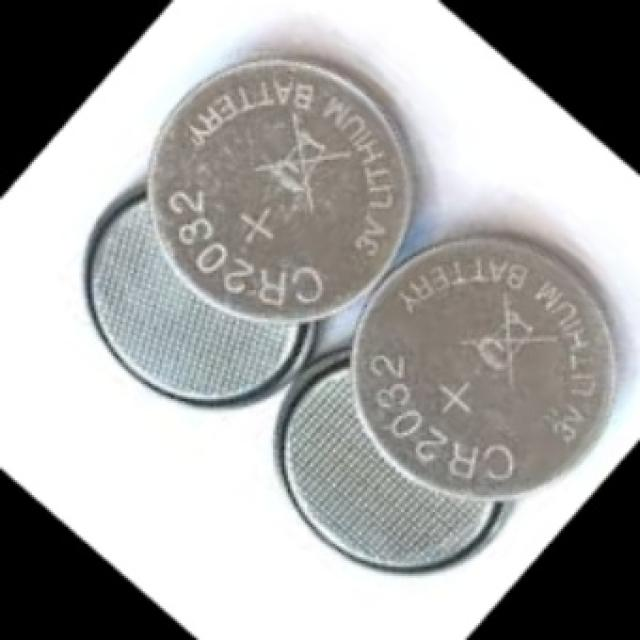elektronik: (353, 236, 617, 503), (149, 58, 412, 320), (86, 182, 315, 407), (276, 348, 507, 570)
